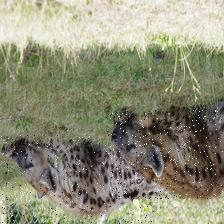hyena: (0, 134, 170, 224), (110, 109, 224, 198)
